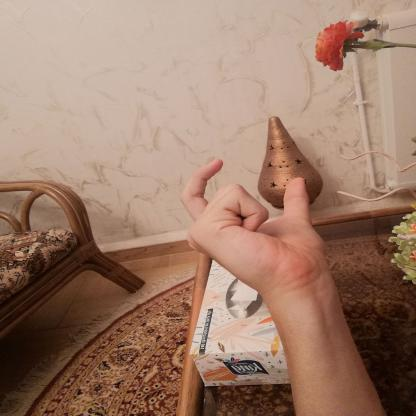NOON: (166, 150, 343, 302)
